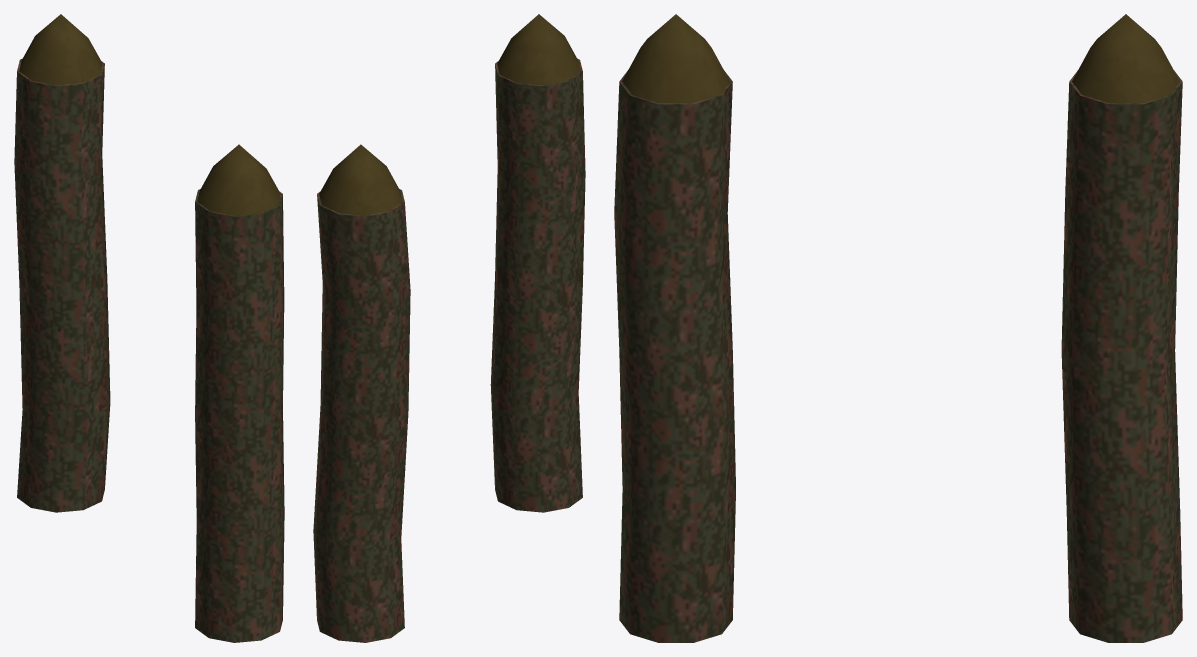
The picture shows the model from 3 angles, left to right: view 1: azimuth 30°, elevation 25°; view 2: azimuth 150°, elevation 25°; view 3: azimuth 270°, elevation 25°; orthographic projection. The views are drawn at different scales.
Parts seen in each view (by area): view 1: FF_P1; view 2: FF_P1; view 3: FF_P1.
Part boxes in pixels (left/top/right/bottom): FF_P1: left=14, top=14, right=284, bottom=642; FF_P1: left=313, top=14, right=585, bottom=642; FF_P1: left=614, top=14, right=1182, bottom=642.
Size of the model in its own units: 57.8 by 320 by 272.
1 material, 1 textured.
